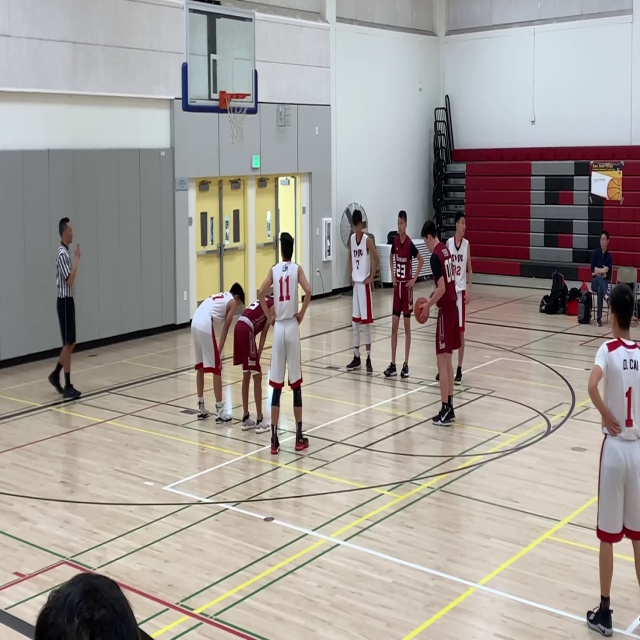Basketball: (414, 297, 429, 324)
